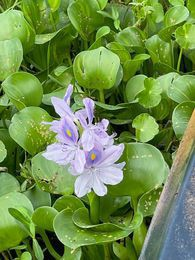water_hyacinth: (0, 0, 194, 260)
